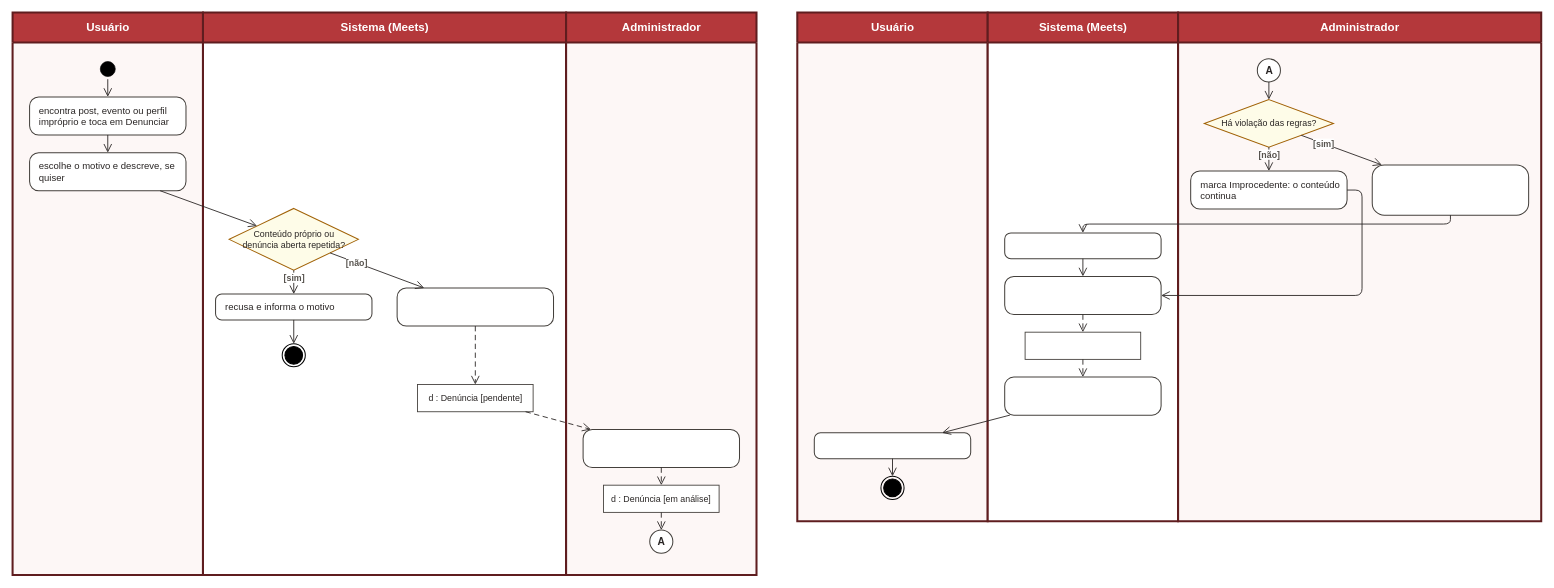
Image size: 1554x588. Some labels were removed from this diagram. The centre of each missing label's shape, as x and y in pixels:
"abre a fila e inicia a análise (Em análise)" belongs at (x=661, y=448).
"d : Denúncia [decidida]" belongs at (x=1082, y=345).
"executa a ação e avisa o autor" belongs at (x=1082, y=245).
"fecha as outras denúncias abertas do mesmo alvo" belongs at (x=1082, y=395).
"marca Procedente e escolhe a ação: remover, advertir ou desativar a conta" belongs at (x=1450, y=189).
"recebe o resultado" belongs at (x=892, y=445).
"registra a decisão no log de administração" belongs at (x=1082, y=295).
"registra como Pendente e avisa os administradores" belongs at (x=475, y=306).
